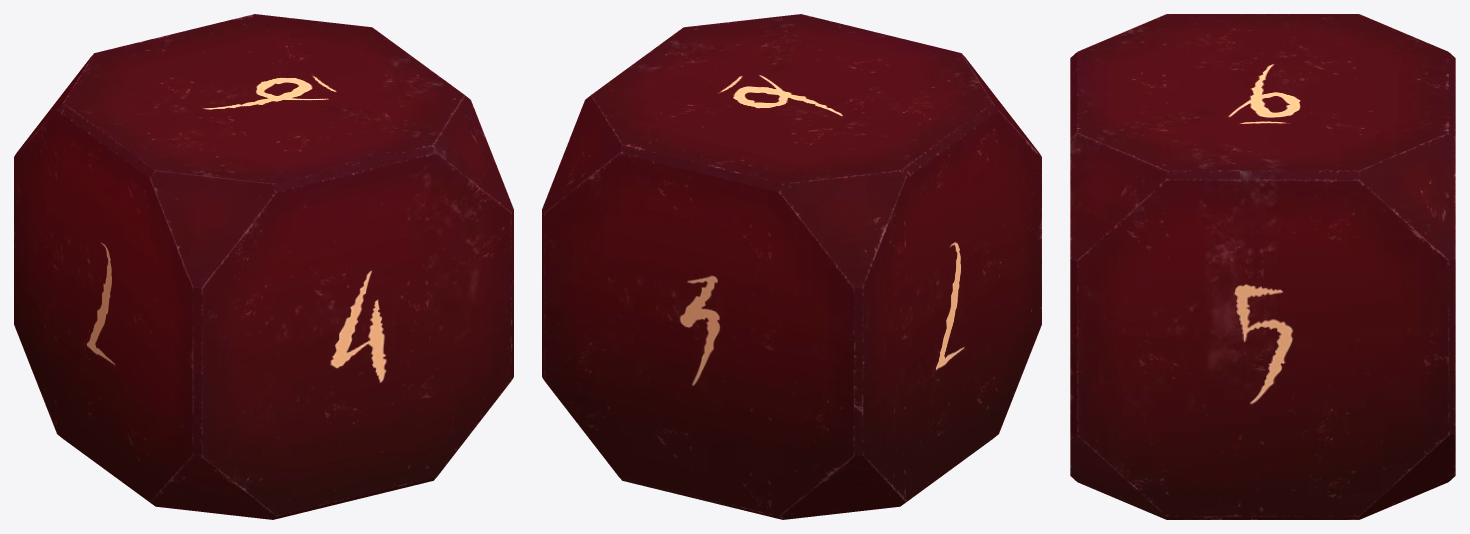
Rendered from DragonGem_d6.gltf.
The picture shows the model from 3 angles, left to right: view 1: azimuth 30°, elevation 25°; view 2: azimuth 150°, elevation 25°; view 3: azimuth 270°, elevation 25°; orthographic projection. The views are drawn at different scales.
Parts seen in each view (by area): view 1: dragongem_d6; view 2: dragongem_d6; view 3: dragongem_d6.
Part boxes in pixels (x1,y1,x2,y2): dragongem_d6: [14, 14, 513, 519]; dragongem_d6: [542, 14, 1041, 519]; dragongem_d6: [1070, 14, 1455, 519].
Bounding box in the file's own units: 104 × 104 × 104.
Materials: 1 (1 with a texture image).
